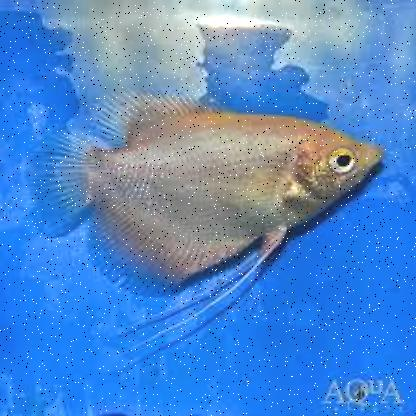gurame: (41, 96, 396, 318)
